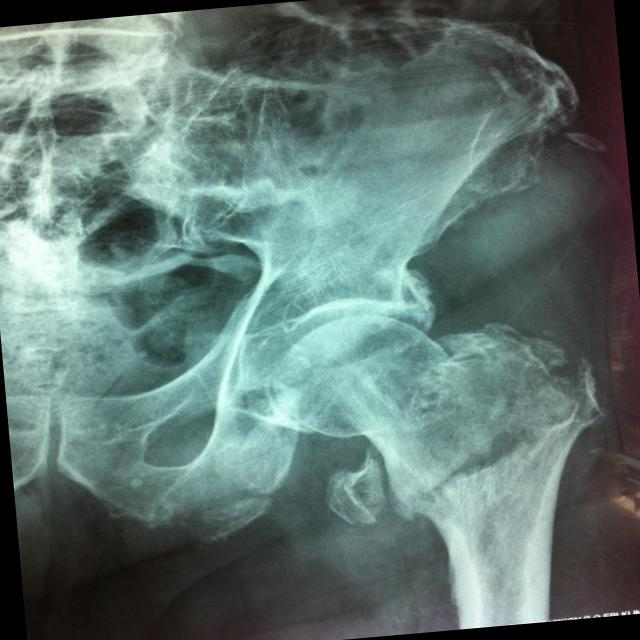left-intertrochanteric: (400, 356, 612, 629), (271, 314, 566, 510)
left-lesser-trochanter: (326, 453, 386, 526)
